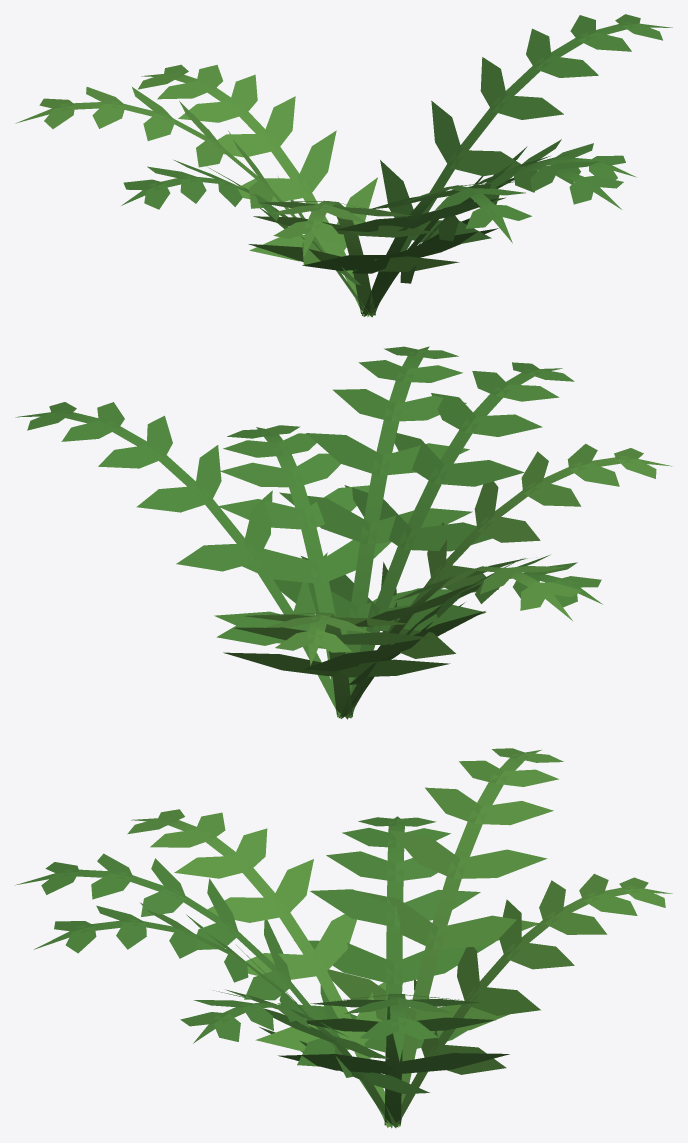
File: fern_2.glb
The picture shows the model from 3 angles, top to bottom: view 1: azimuth 30°, elevation 25°; view 2: azimuth 150°, elevation 25°; view 3: azimuth 270°, elevation 25°; orthographic projection. The views are drawn at different scales.
Visible parts, largest first — view 1: fern_2; view 2: fern_2; view 3: fern_2.
Boxes of the visible parts, box(x1,y1,x2,y2) form: fern_2: box(15, 14, 672, 317); fern_2: box(15, 346, 671, 719); fern_2: box(15, 748, 672, 1128).
Bounding box in the file's own units: 1.58 × 0.5736 × 1.41.
